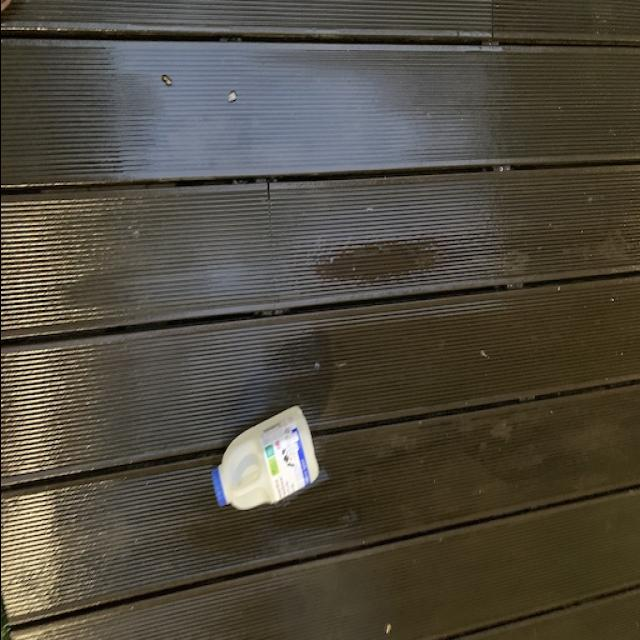HDPEM: (210, 406, 320, 514)
